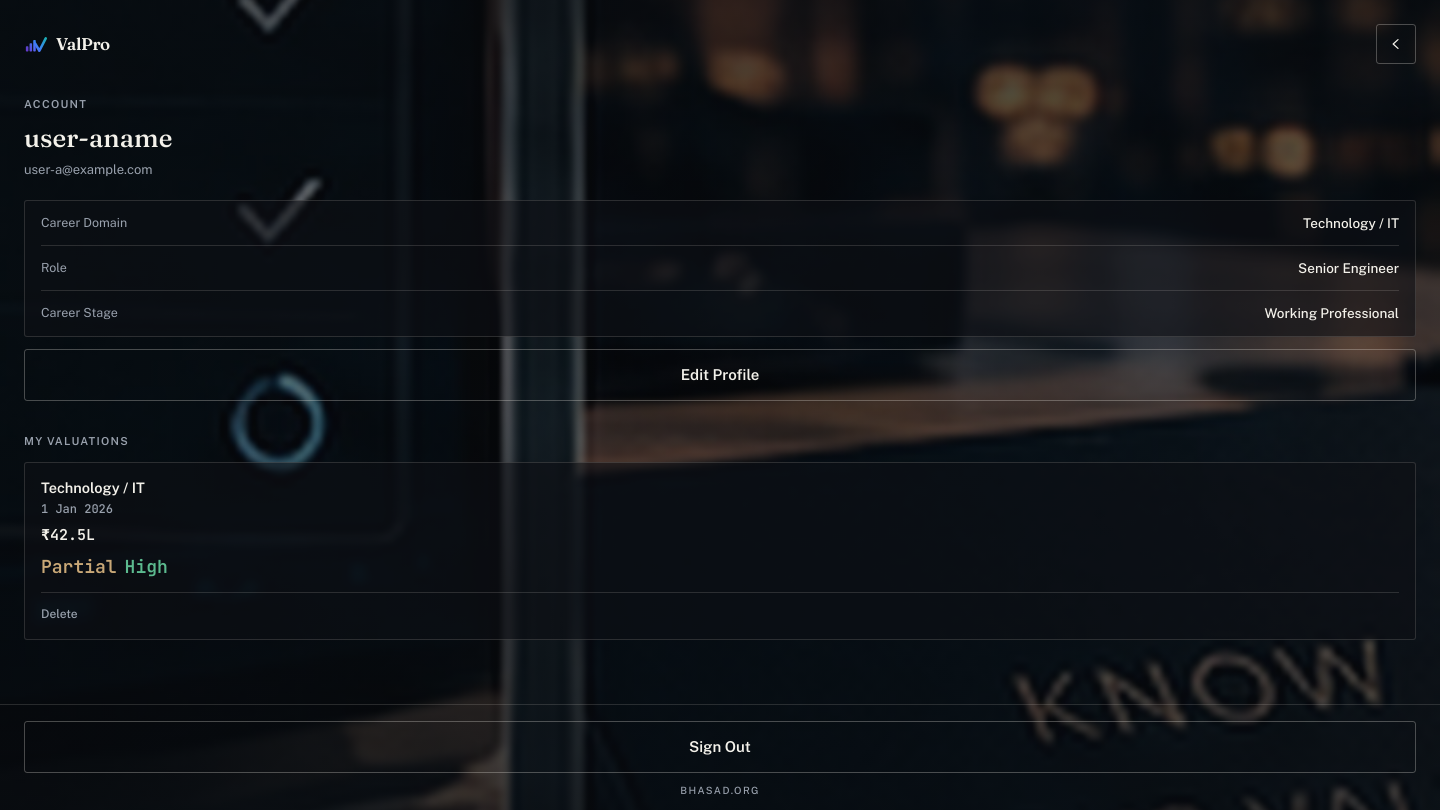
Scenario: Account — valuation cards › shows an error message and keeps the row visible when delete fails
The image size is (1440, 810).
Expected: the element with test id "valuation-card" is shown, [24, 462, 1416, 640]
Click the button "Delete": (59, 614) [41, 592, 1399, 623]
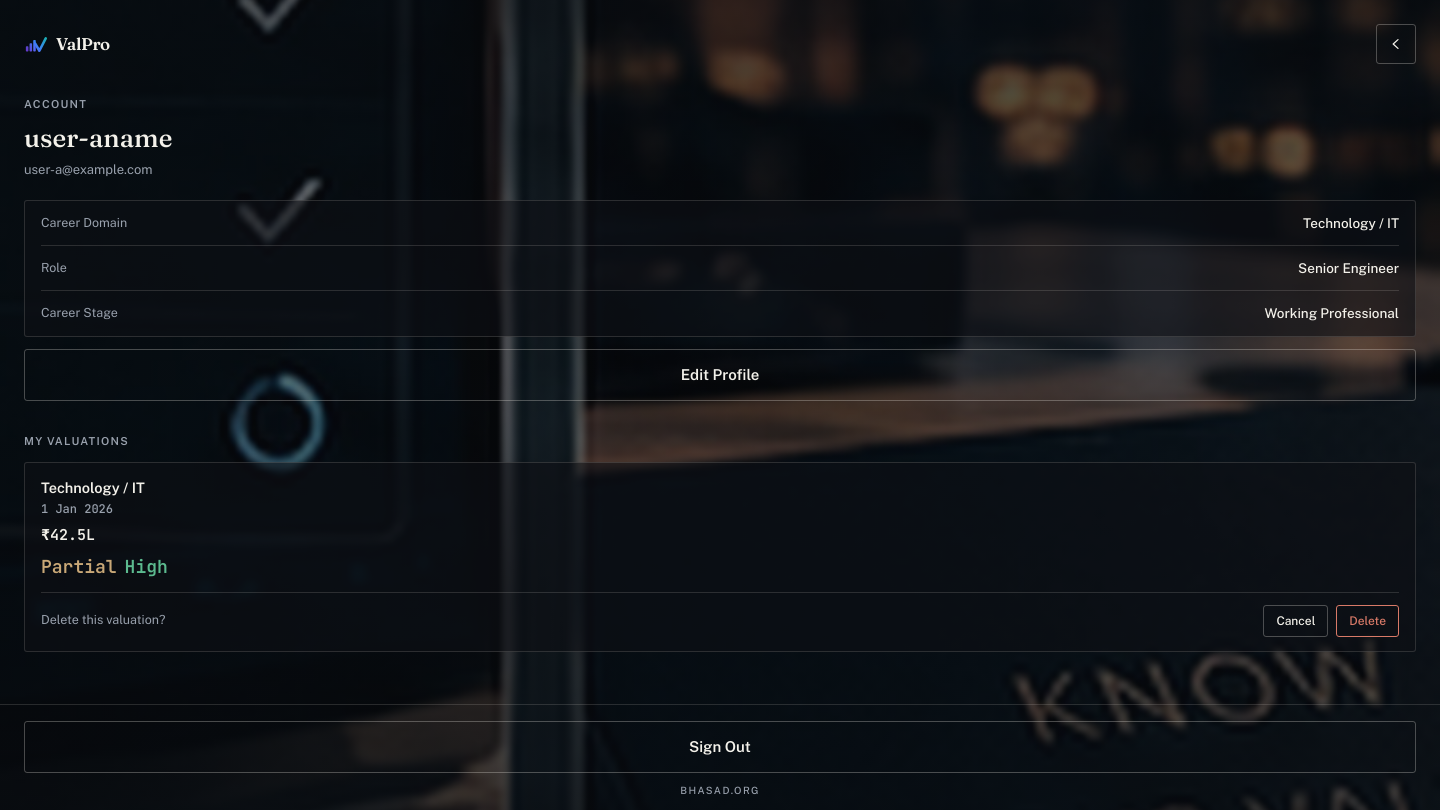
Click the button "Delete": (1368, 621) [1336, 605, 1399, 637]
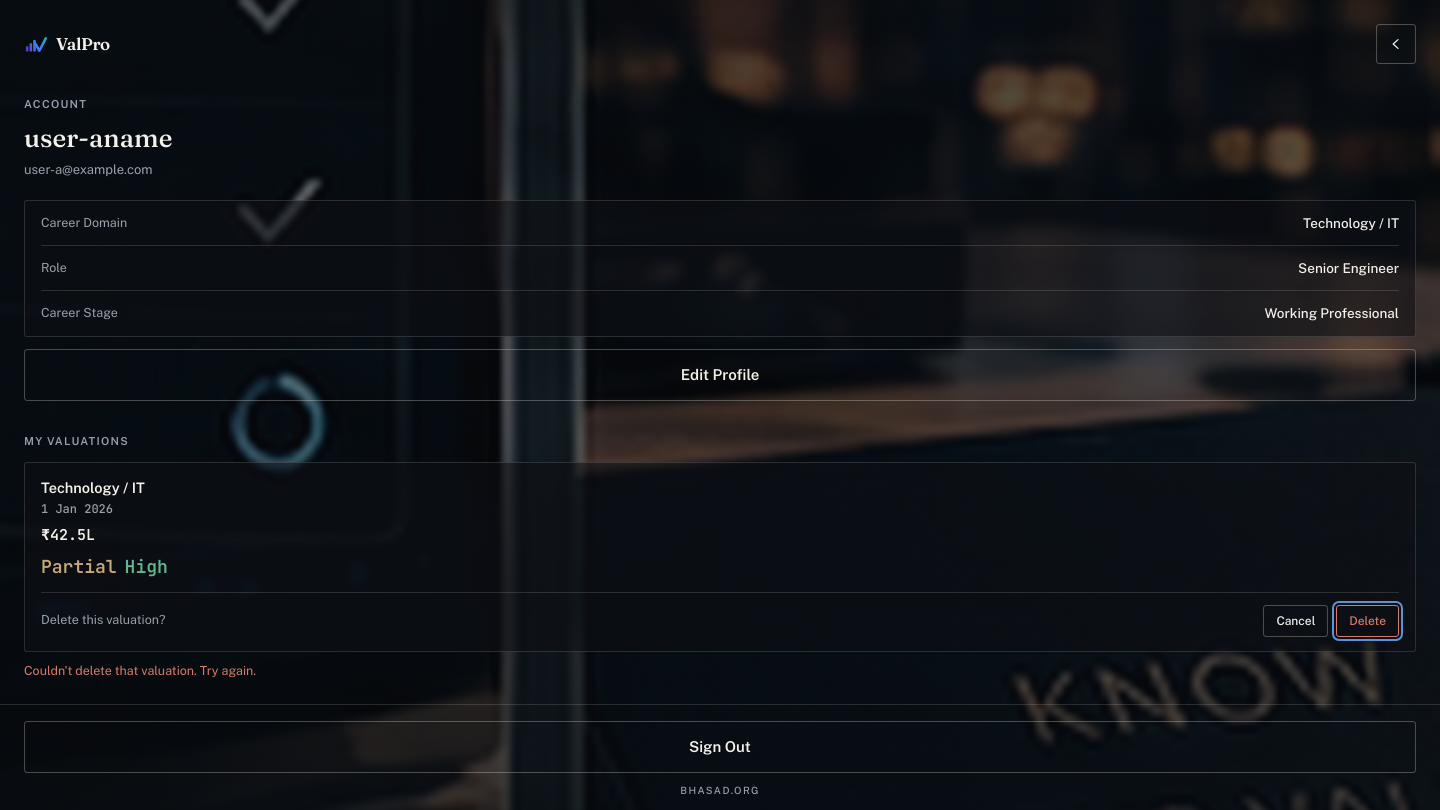
Expected: the element with test id "valuation-card" is shown, [24, 462, 1416, 652]
Now the text "Couldn't delete that valuation. Try again." is shown, box [24, 663, 256, 678]
